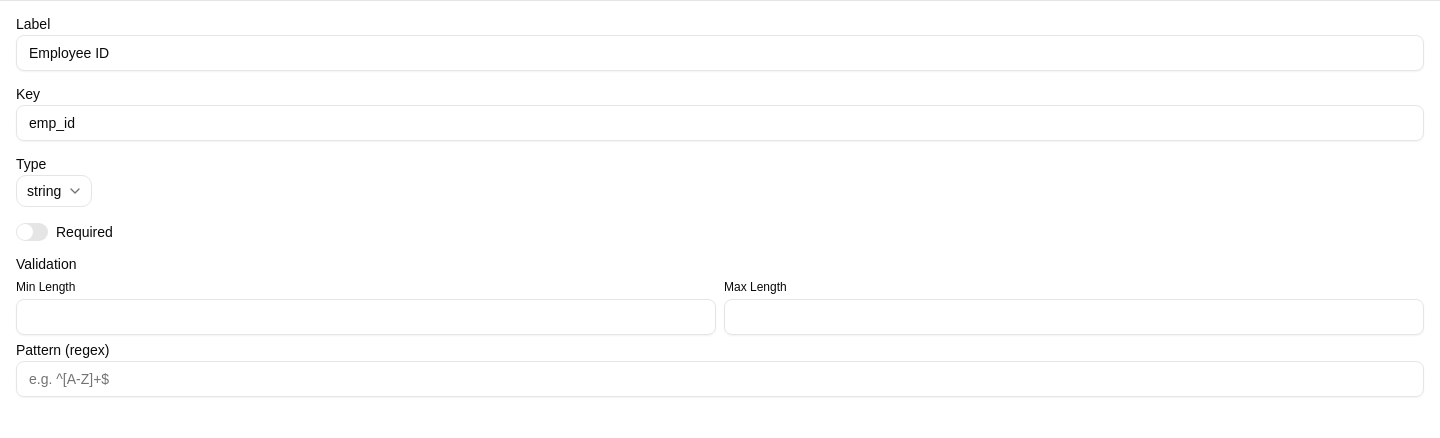
it: FieldEditor › shows duplicate key error on blur when key matches another
The image size is (1440, 438).
Replace the text in the field showing "emp_id" with "other_key" at coordinates (720, 123), box [16, 105, 1424, 141]
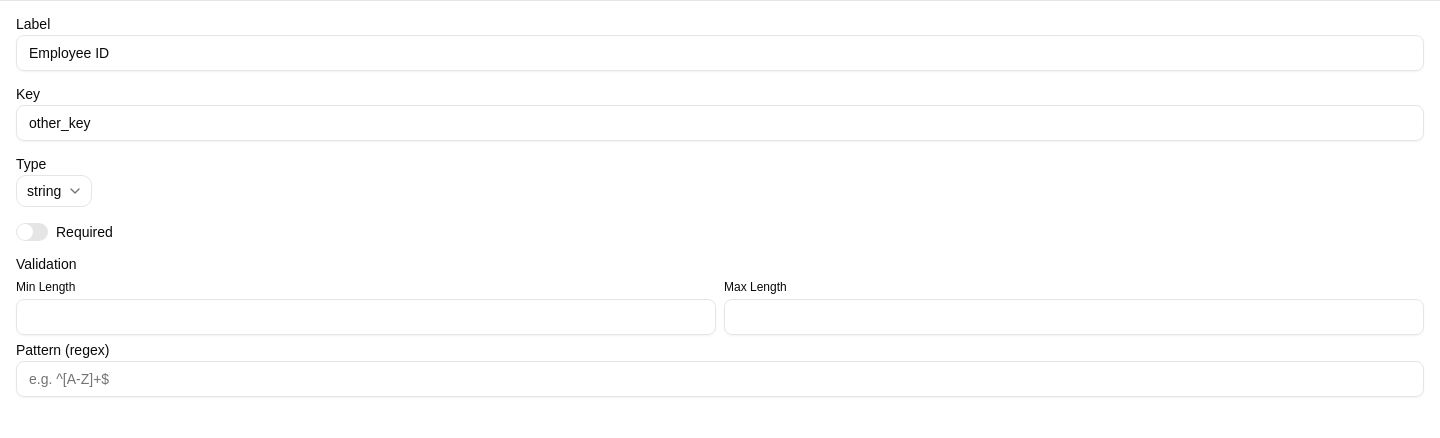
Leave the field showing "emp_id", box [16, 105, 1424, 141]
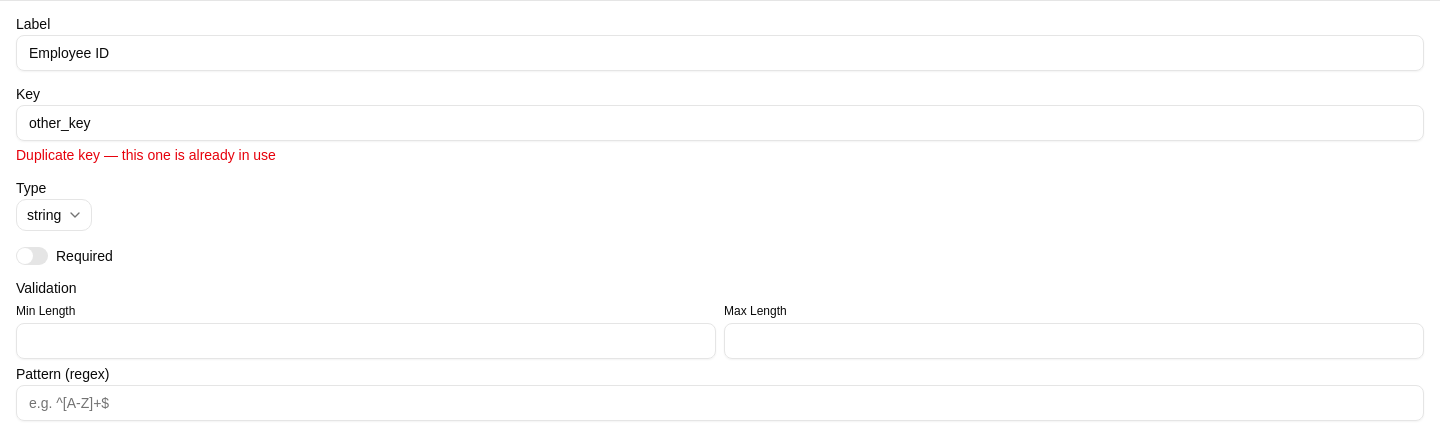
Check: the text "Duplicate key — this one is already in use" is shown, box [16, 147, 276, 163]
